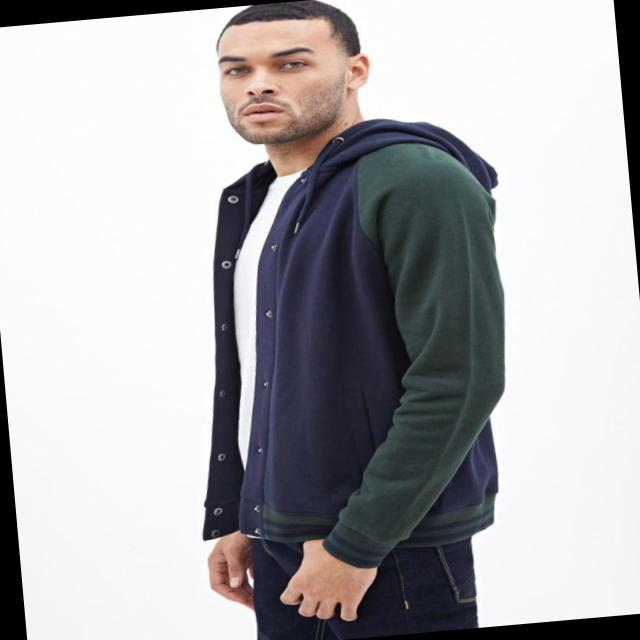Jacket: (156, 120, 552, 570)
